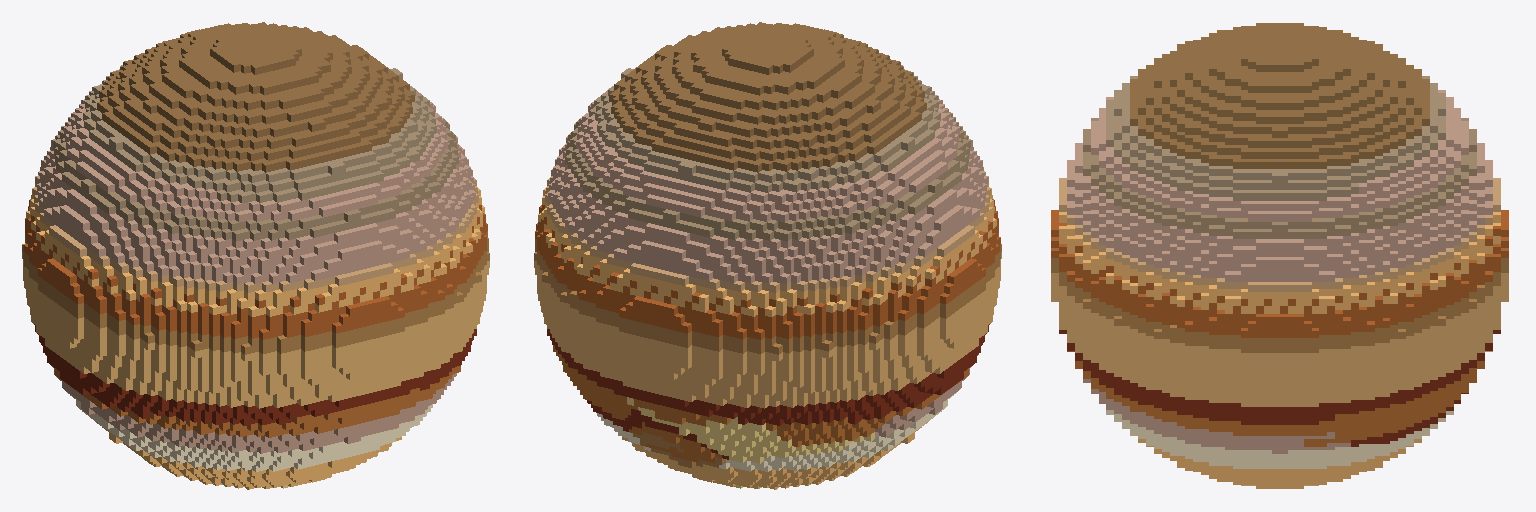
3 renders of one model, left to right at view 1: azimuth 30°, elevation 25°; view 2: azimuth 150°, elevation 25°; view 3: azimuth 270°, elevation 25°, orthographic.
Visible parts, largest first — view 1: Jupiter; view 2: Jupiter; view 3: Jupiter.
Part boxes in pixels (x1,y1,x2,y2): Jupiter: (22,22,489,489); Jupiter: (534,22,1001,489); Jupiter: (1051,23,1508,488).
Size of the model in its own units: 58 by 58 by 58.
Materials: 1 (1 with a texture image).